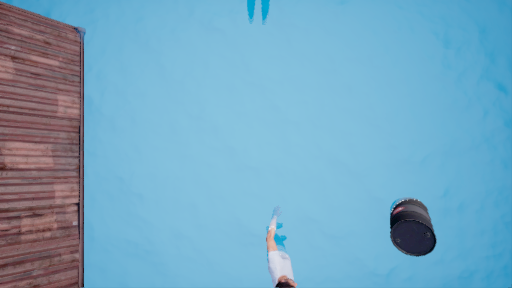person: (253, 204, 302, 280)
